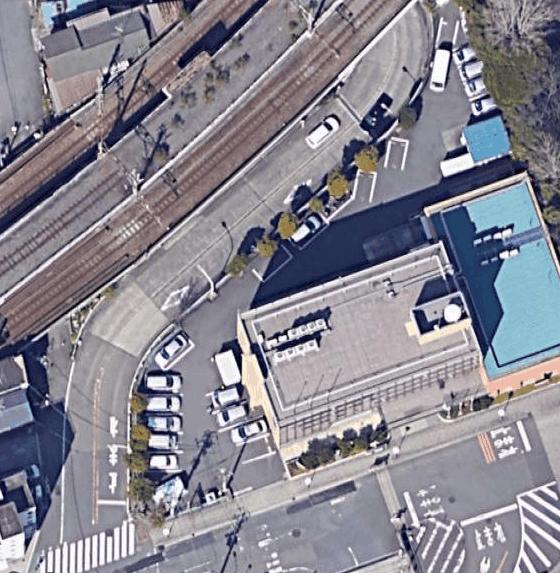facility: (237, 237, 491, 439)
